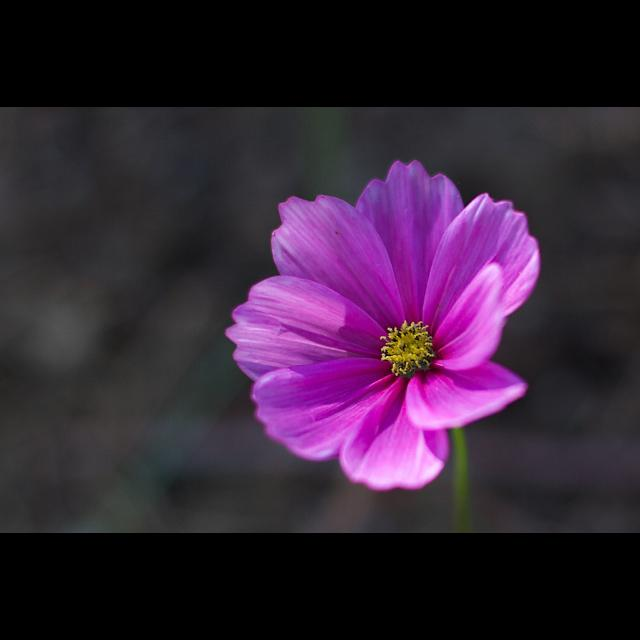Flower: (234, 179, 534, 516)
